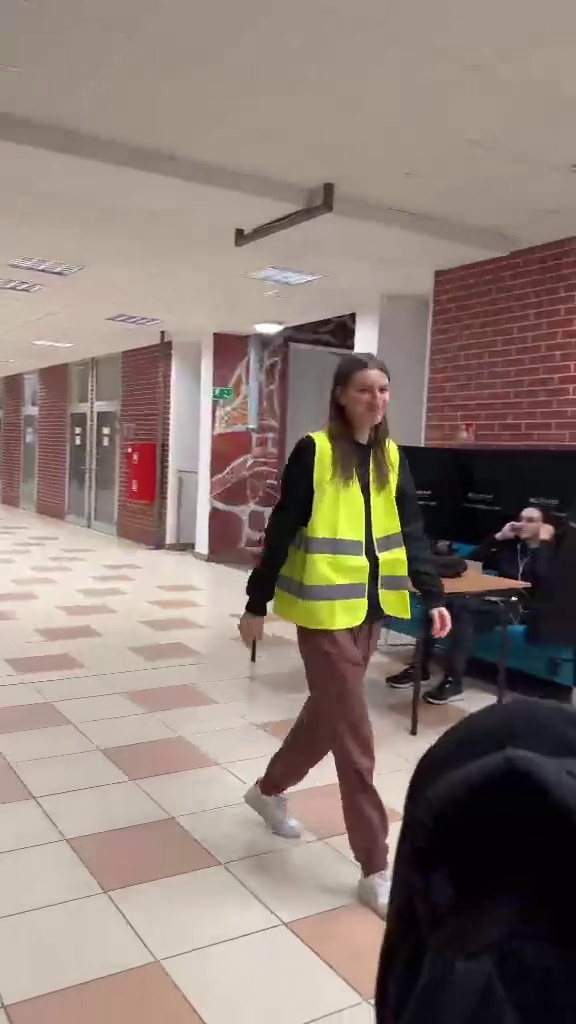no vest: (402, 501, 576, 708)
vest: (239, 350, 451, 915)
